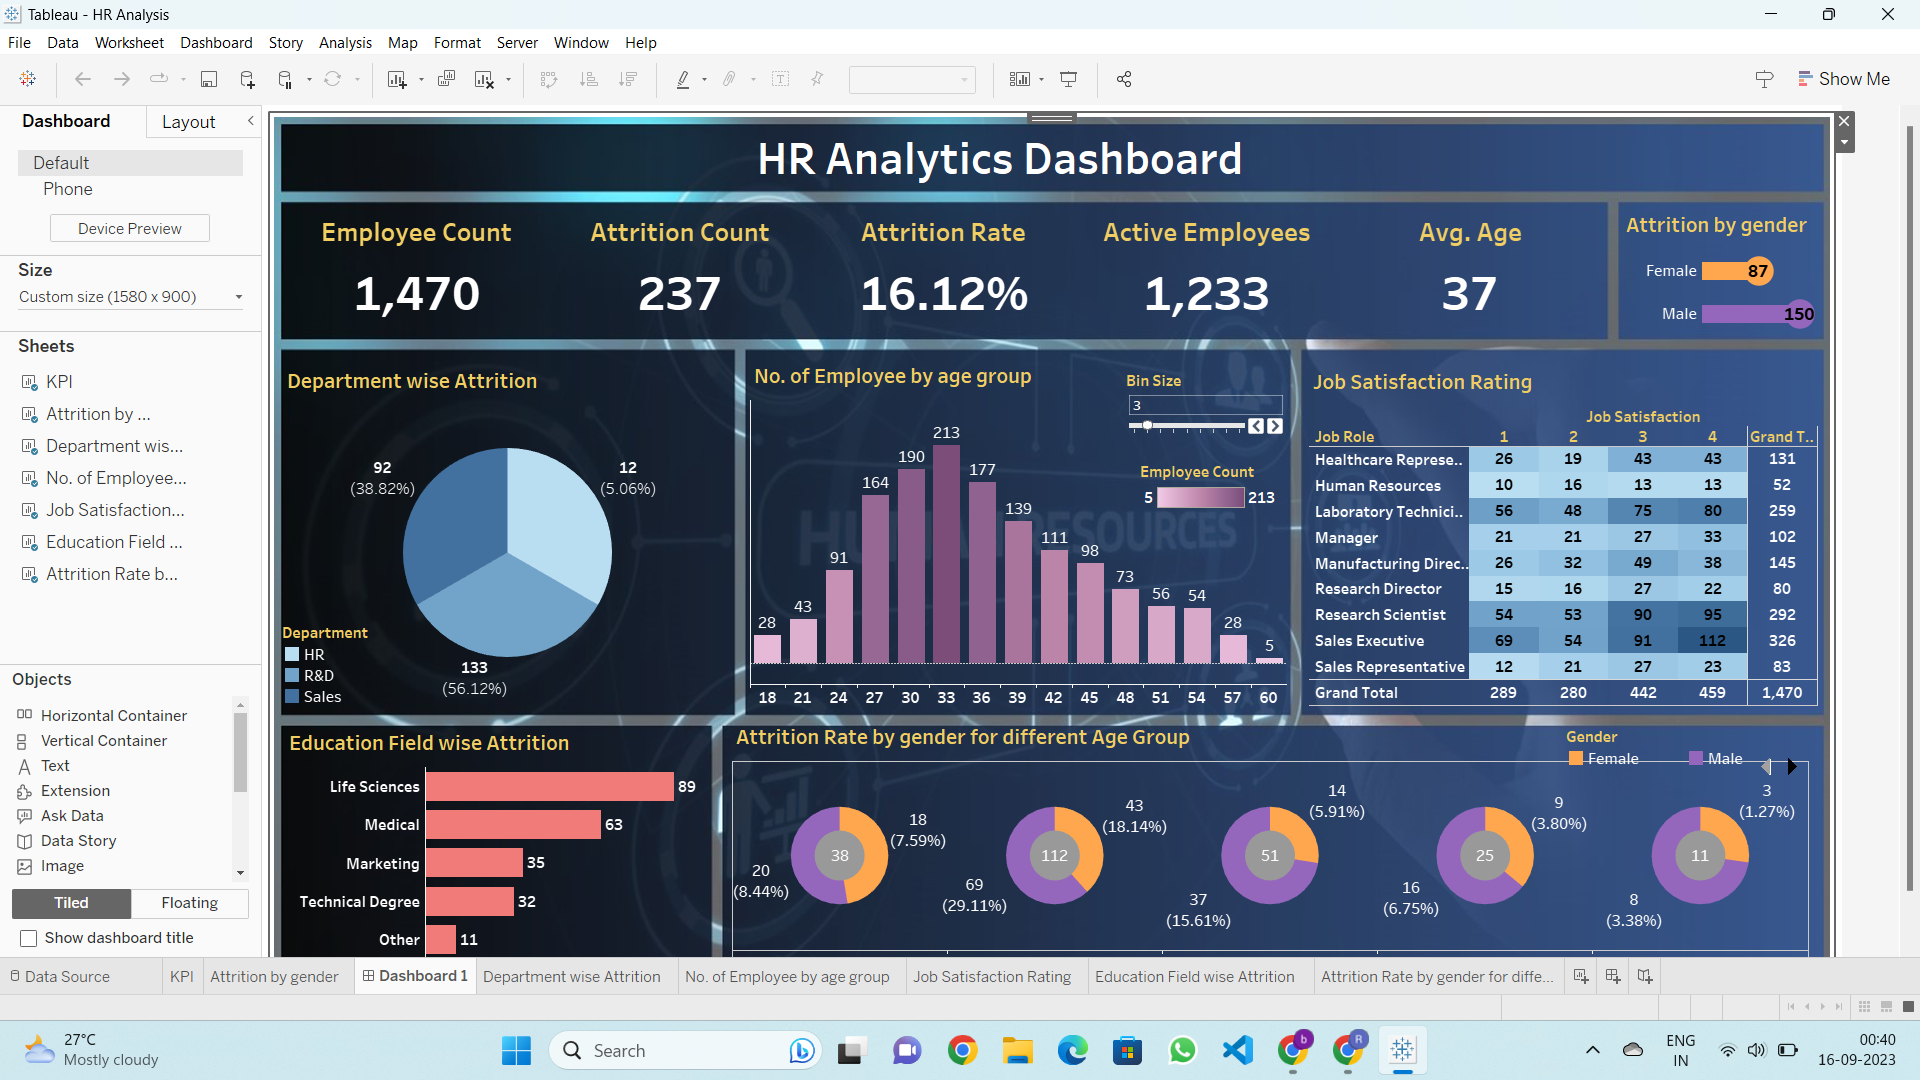

What the dashboard file says about the page in this screenshot:
{"tool":"tableau","page":{"name":"Dashboard 1","canvas":[1580,900],"ordinal":0},"visuals":[{"type":"image","param":"C:/Users/HP/Desktop/HR  pic.jpg","box":[8,8,1564,884]},{"type":"text","box":[491,22,494,59]},{"type":"worksheet","title":"Attrition by gender","mark":"Automatic","rows":["Gender"],"cols":["Calculation_259519987206656000","Calculation_259519987206656000"],"box":[1360,101,198,129]},{"type":"worksheet","title":"KPI","mark":"Automatic","box":[23,103,1317,125]},{"type":"worksheet","title":"No. of Employee by age group","mark":"Automatic","rows":["Employee Count"],"cols":["Age (bin)"],"box":[488,252,537,352]},{"type":"worksheet","title":"Department wise Attrition","mark":"Pie","box":[21,257,449,338]},{"type":"worksheet","title":"Job Satisfaction Rating","mark":"Square","rows":["Job Role"],"cols":["Job Satisfaction"],"box":[1047,258,509,343]},{"type":"parameter","param":"[Parameters].[Parameter 1]","box":[864,265,160,71]},{"type":"legend","title":"No. of Employee by age group","param":"[federated.1lqklv21vwmrfs12k0b2106jc2p0].[sum:Employee Count:qk]","box":[878,356,140,88]},{"type":"legend","title":"Department wise Attrition","param":"[federated.1lqklv21vwmrfs12k0b2106jc2p0].[none:Department:nk]","box":[20,517,140,85]},{"type":"worksheet","title":"Attrition Rate by gender for different Age Group","mark":"Pie","rows":["Calculation_607704534112333828","Calculation_607704534112333828"],"cols":["CF_age band"],"box":[470,613,1077,258]},{"type":"worksheet","title":"Education Field wise Attrition","mark":"Automatic","rows":["Education Field"],"cols":["Calculation_259519987206656000"],"box":[23,619,428,273]},{"type":"legend","title":"Attrition Rate by gender for different Age Group","param":"[federated.1lqklv21vwmrfs12k0b2106jc2p0].[none:Gender:nk]","box":[1304,621,241,58]}]}

Visuals, with their boxes on the page's 1580x900 design canvas (x1, y1, x2, y2). These are canvas units, not pixel positions in the 1920x1080 screenshot, which may show the page scaled, cropped or inside an application window:
image: 8:8:1572:892
text: 491:22:985:81
"Attrition by gender" worksheet: 1360:101:1558:230
"KPI" worksheet: 23:103:1340:228
"No. of Employee by age group" worksheet: 488:252:1025:604
"Department wise Attrition" worksheet (Pie marks): 21:257:470:595
"Job Satisfaction Rating" worksheet (Square marks): 1047:258:1556:601
parameter: 864:265:1024:336
"No. of Employee by age group" legend: 878:356:1018:444
"Department wise Attrition" legend: 20:517:160:602
"Attrition Rate by gender for different Age Group" worksheet (Pie marks): 470:613:1547:871
"Education Field wise Attrition" worksheet: 23:619:451:892
"Attrition Rate by gender for different Age Group" legend: 1304:621:1545:679
